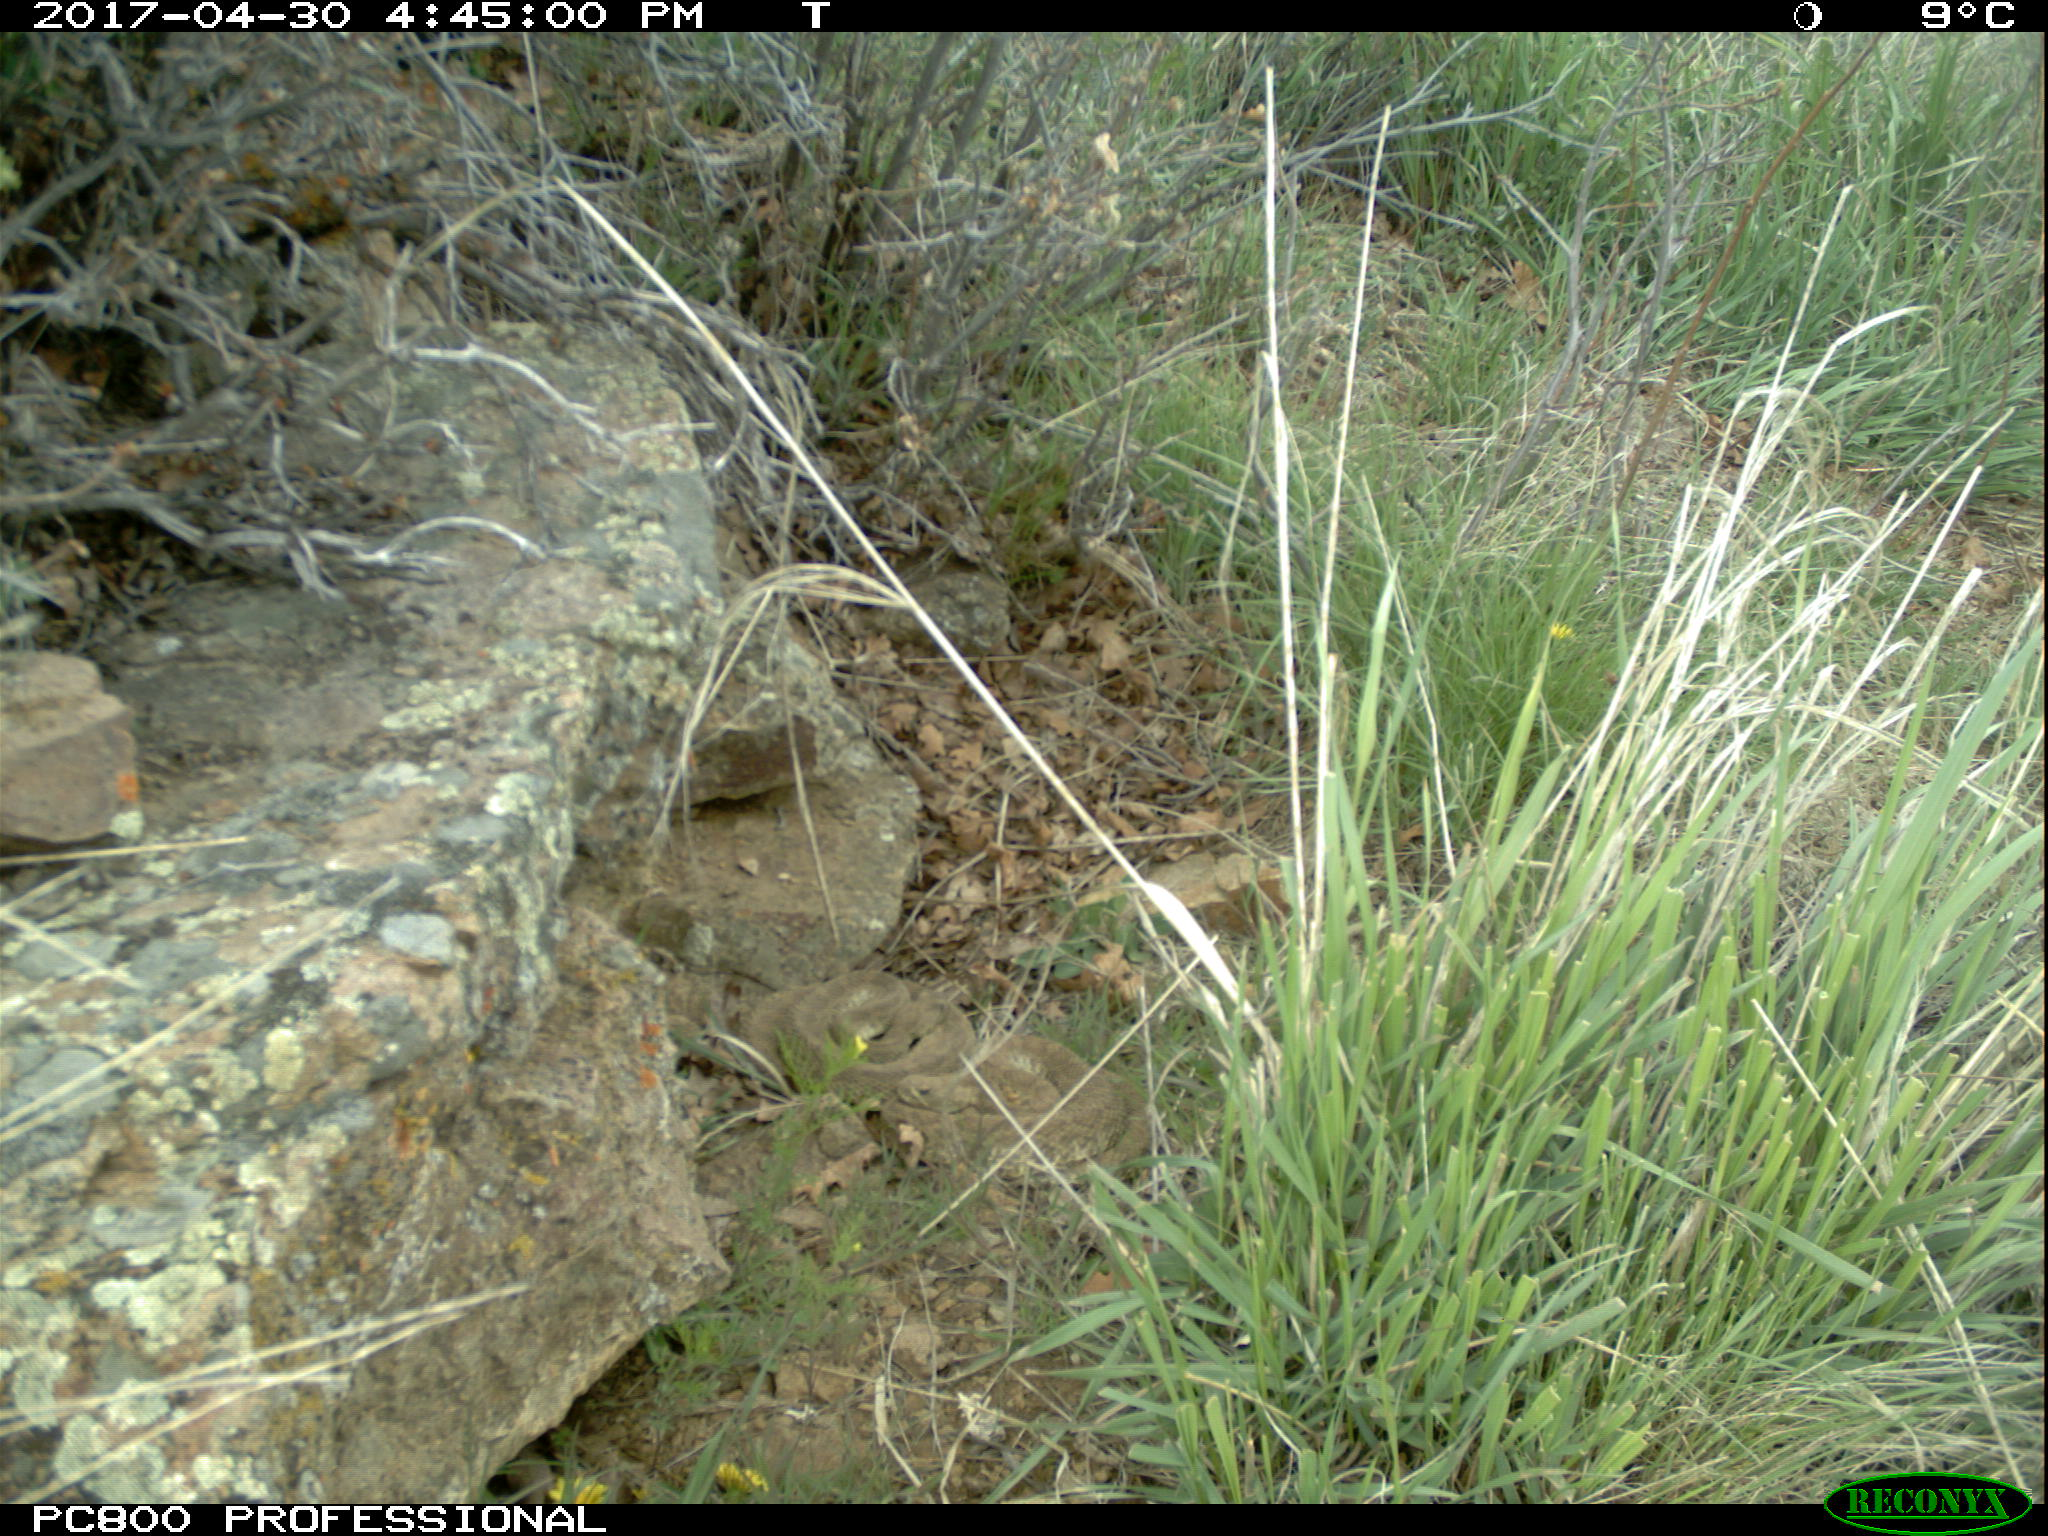snake: (734, 965, 1198, 1187)
